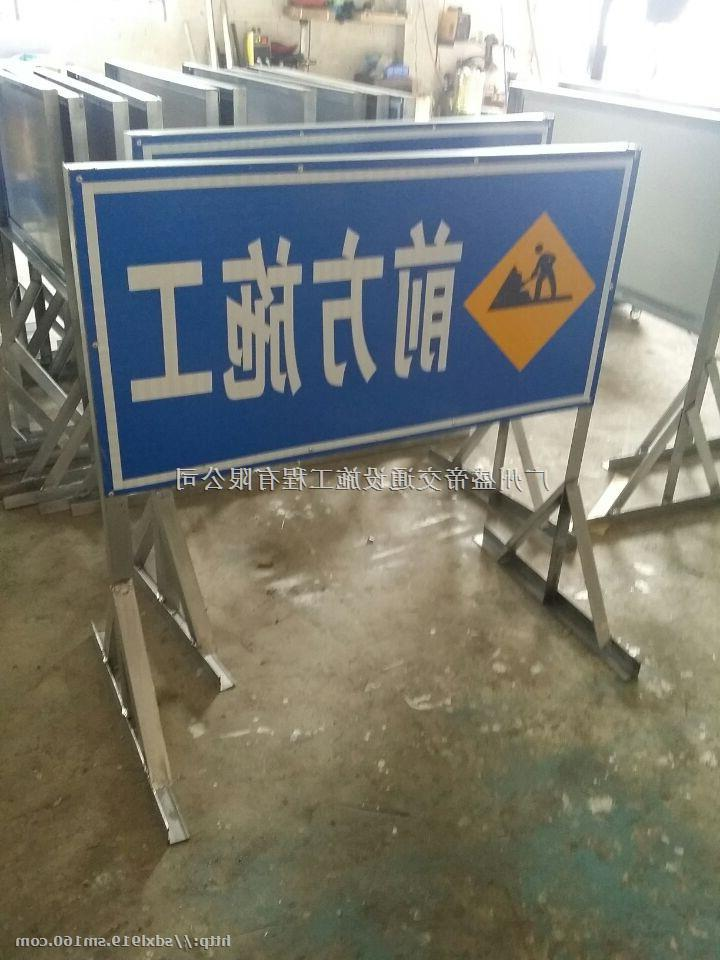sign: (78, 145, 641, 498)
